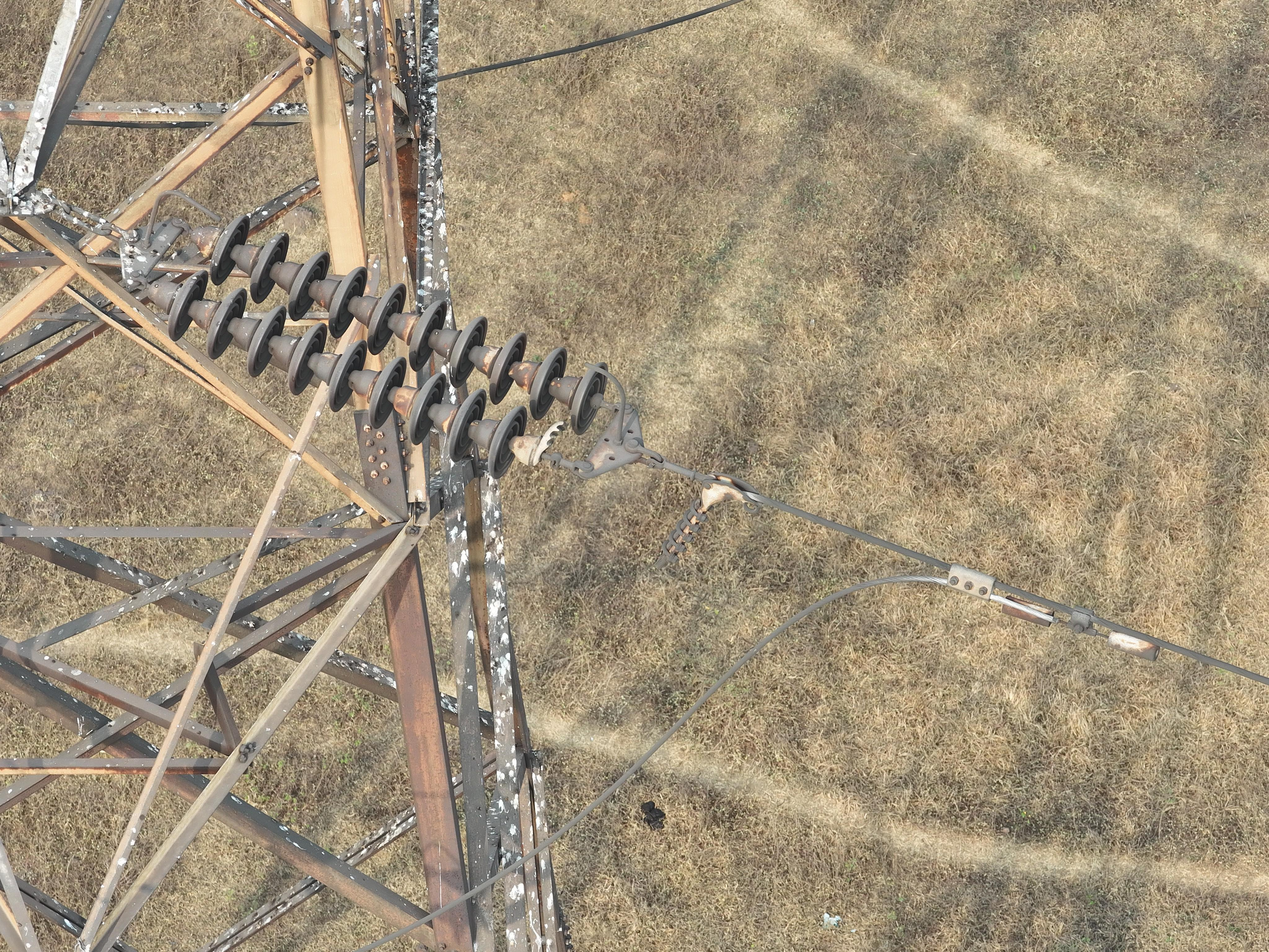broken_insulator: (530, 414, 571, 477)
